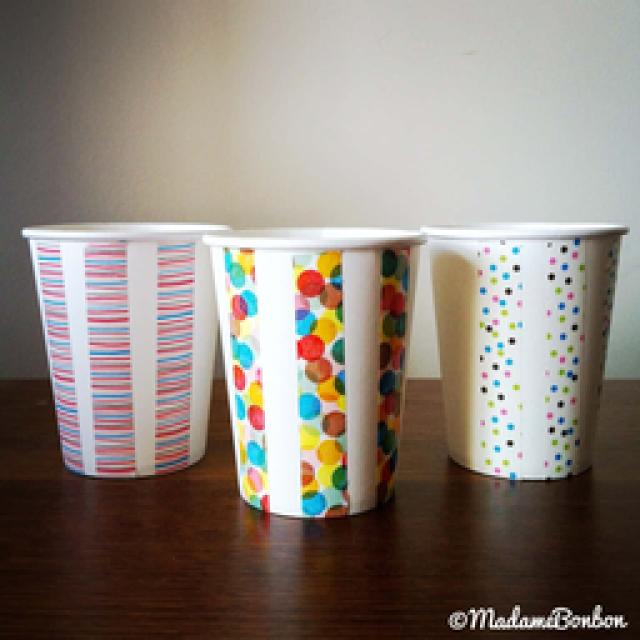paper_cups: (200, 242, 416, 524), (427, 226, 630, 487), (28, 222, 228, 478)
